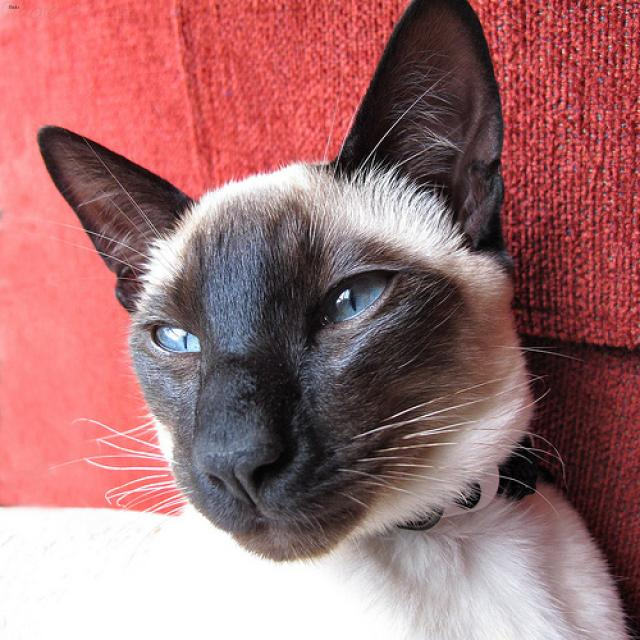cat: (36, 0, 508, 558)
